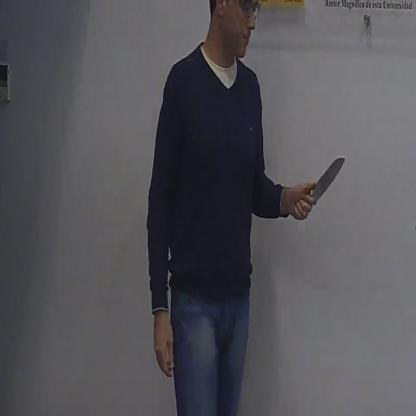knife: (297, 152, 348, 214)
